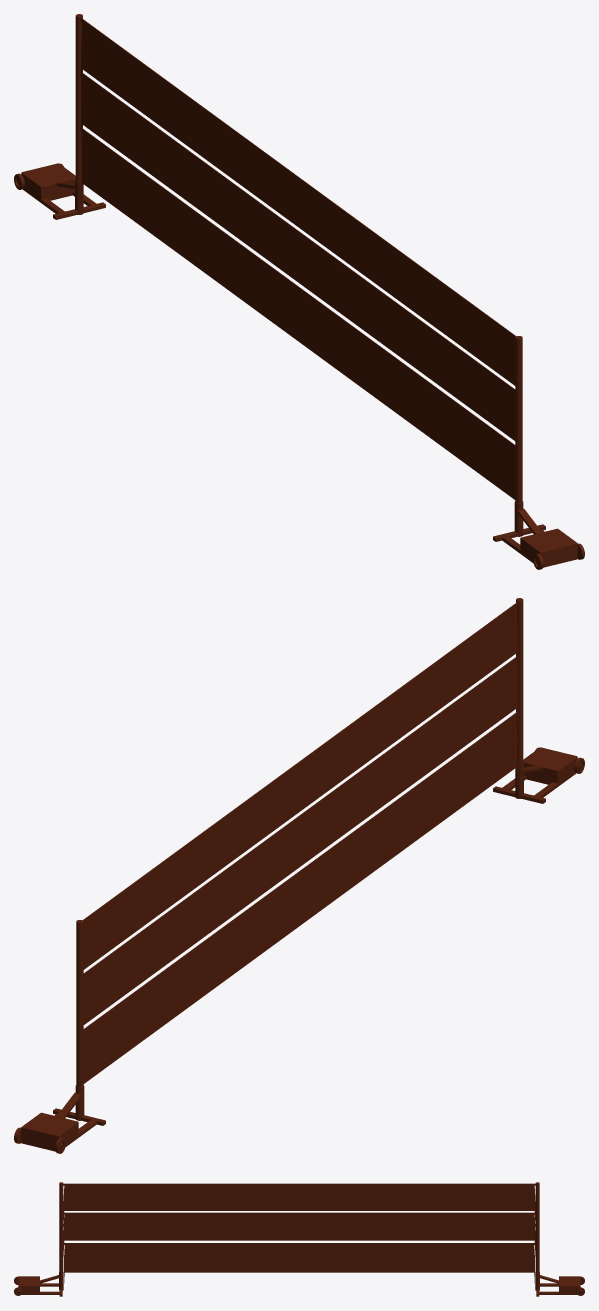
File: netVolley2.obj
The picture shows the model from 3 angles, top to bottom: view 1: azimuth 30°, elevation 25°; view 2: azimuth 150°, elevation 25°; view 3: azimuth 270°, elevation 25°; orthographic projection. The views are drawn at different scales.
Visible parts, largest first — view 1: Box01; view 2: Box01; view 3: Box01.
Boxes of the visible parts, bbox=[...] form: Box01: bbox=[14, 14, 584, 569]; Box01: bbox=[14, 598, 584, 1153]; Box01: bbox=[14, 1182, 584, 1296].
Size of the model in its own units: 80 by 300 by 1450.
